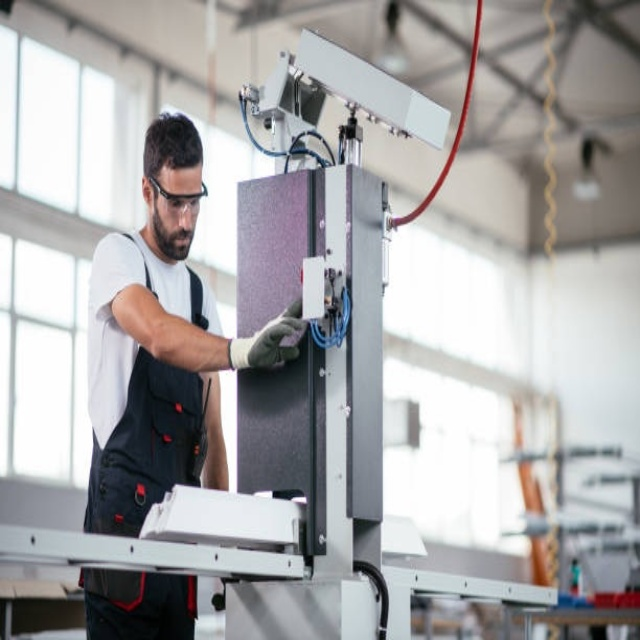Gafas: (147, 174, 208, 214)
Guantes: (230, 300, 306, 372)
Sin_mascara: (163, 224, 196, 260)
